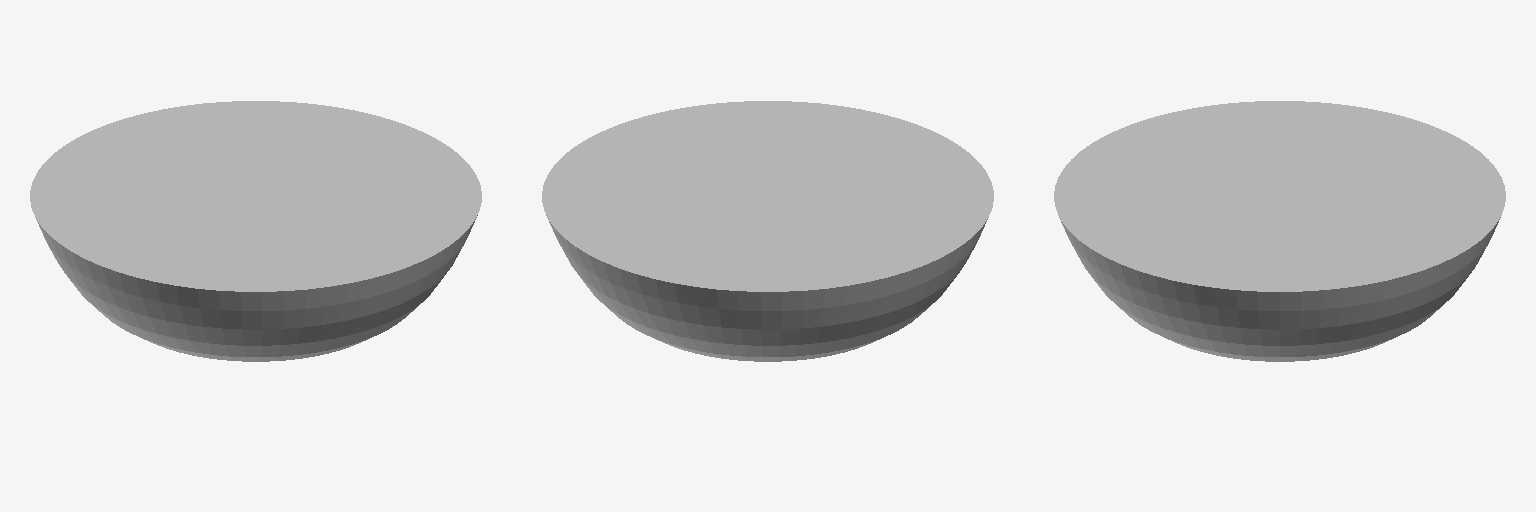
Rendered from bowl_fill.obj.
The picture shows the model from 3 angles: view 1: azimuth 30°, elevation 25°; view 2: azimuth 150°, elevation 25°; view 3: azimuth 270°, elevation 25°; orthographic projection.
Parts seen in each view (by area): view 1: Fill_Cylinder.001; view 2: Fill_Cylinder.001; view 3: Fill_Cylinder.001.
Boxes of the visible parts, x1,y1,x2,y2 form: Fill_Cylinder.001: [30, 101, 481, 361]; Fill_Cylinder.001: [542, 101, 993, 361]; Fill_Cylinder.001: [1054, 101, 1505, 361].
Bounding box in the file's own units: 8.35 × 2.43 × 8.35.